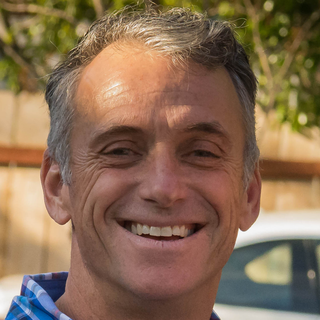eye: (95, 141, 143, 165), (179, 143, 227, 166)
